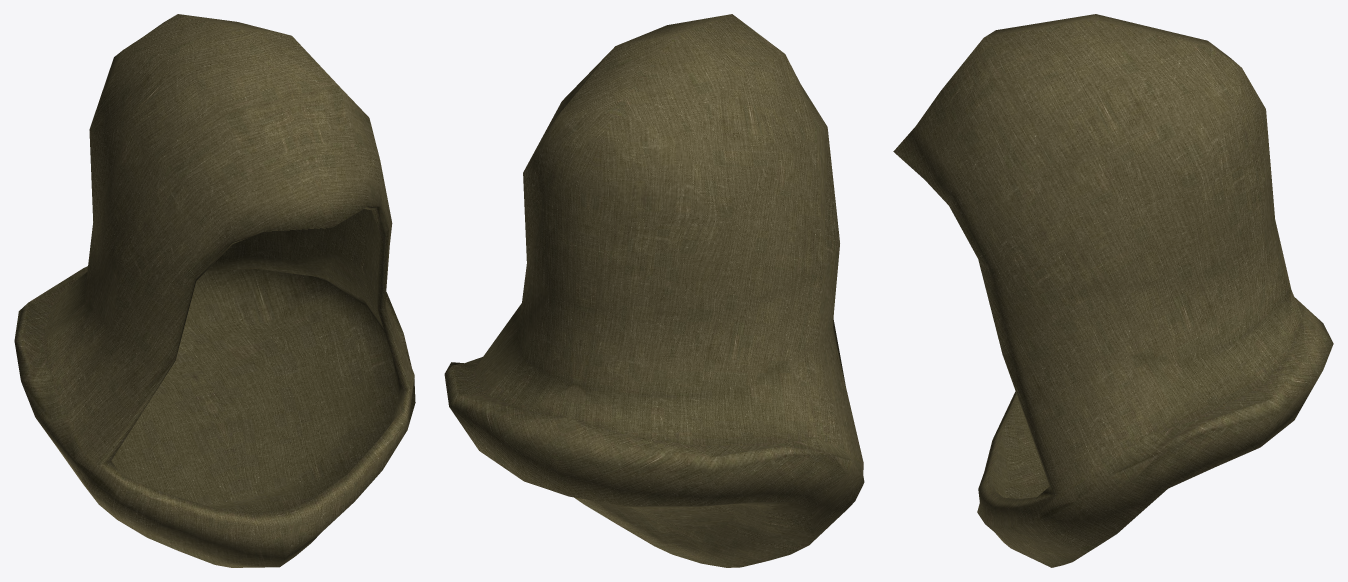
Rendered from linen_hood.glb.
3 views of the same model, side by side, from view 1: azimuth 30°, elevation 25°; view 2: azimuth 150°, elevation 25°; view 3: azimuth 270°, elevation 25° (orthographic). The views are drawn at different scales.
Parts seen in each view (by area): view 1: hood_export; view 2: hood_export; view 3: hood_export.
Boxes of the visible parts, x1,y1,x2,y2 form: hood_export: (14, 14, 415, 567); hood_export: (444, 14, 864, 567); hood_export: (893, 14, 1333, 567).
Bounding box in the file's own units: 1.5 × 2.05 × 1.52.
Materials: 1 (1 with a texture image).
